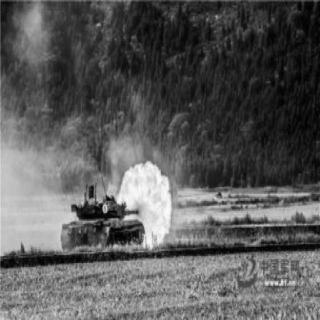Fire: (98, 120, 180, 254)
